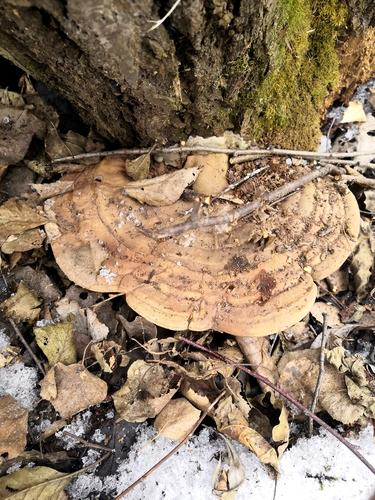Ganoderma - Fruit Body: (32, 147, 370, 344)
